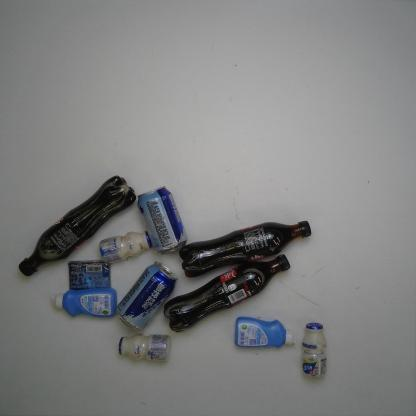Alcohol: (113, 258, 182, 333), (134, 184, 191, 256)
Drink: (16, 171, 138, 279), (157, 254, 296, 336), (178, 216, 315, 280)
Gum: (62, 258, 113, 294)
Milk: (96, 227, 154, 265), (114, 331, 173, 365), (300, 319, 330, 381)
Personal Hygiene: (227, 313, 299, 353), (47, 289, 120, 322)
